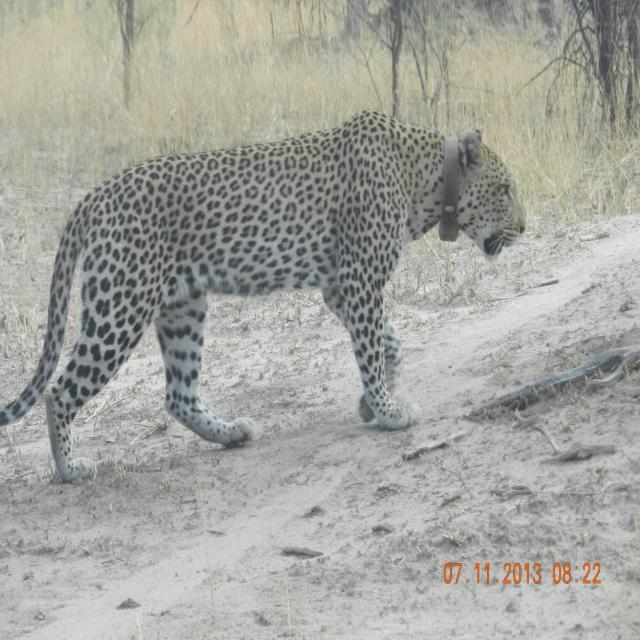Leopard: (10, 104, 527, 452)
